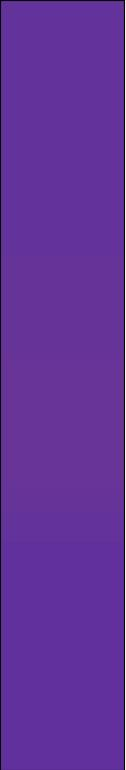safe: (8, 14, 116, 759)
